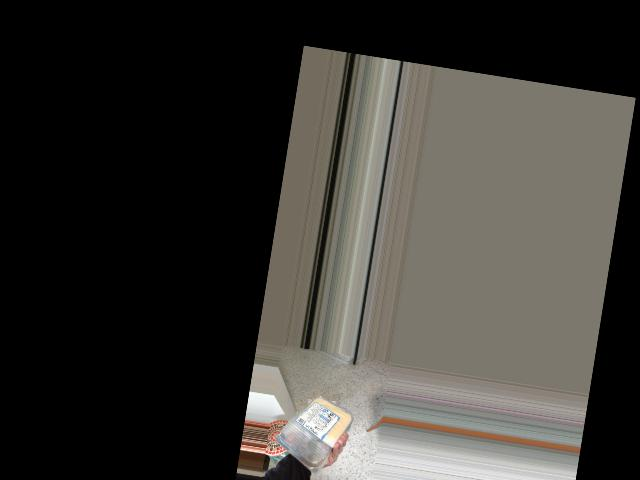cheese: (270, 387, 351, 459)
